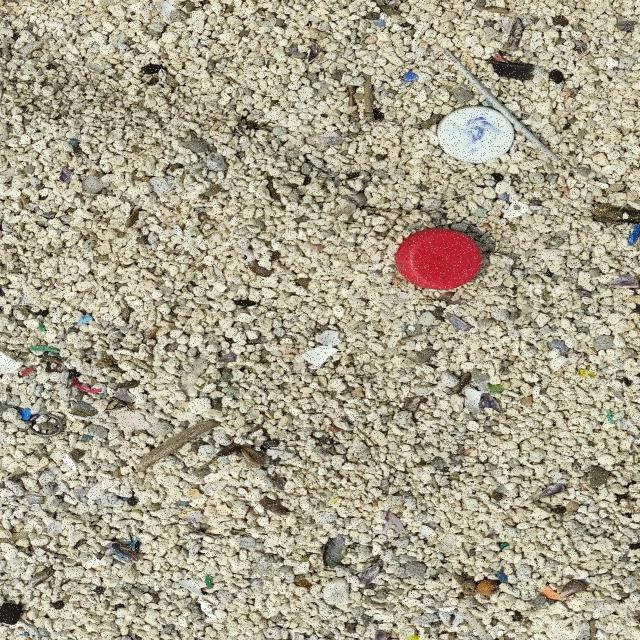plastic_waste: (394, 228, 482, 291), (440, 107, 518, 166)
